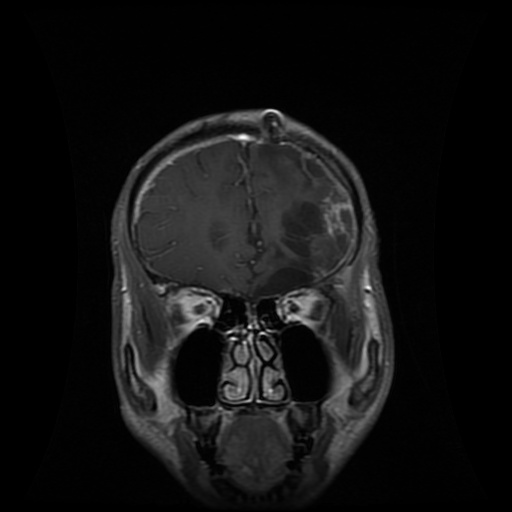glioma: (249, 201, 353, 295)
